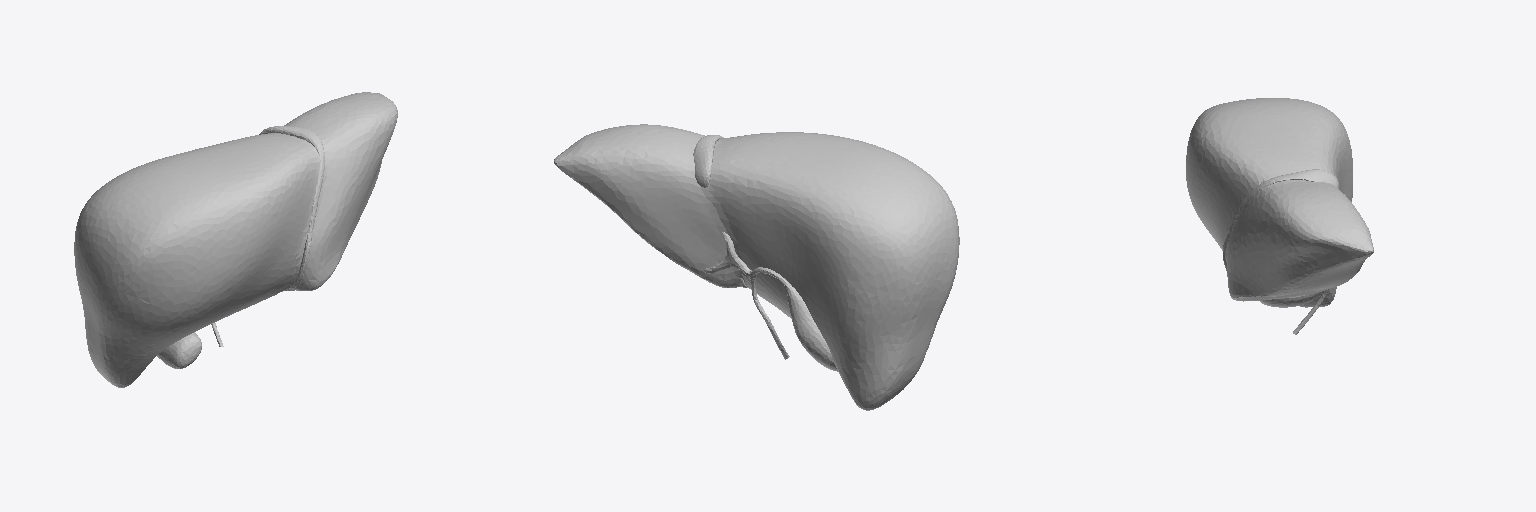
File: liver_easy.obj
3 views of the same model, side by side, from view 1: azimuth 30°, elevation 25°; view 2: azimuth 150°, elevation 25°; view 3: azimuth 270°, elevation 25° (orthographic).
Parts seen in each view (by area): view 1: mmGroup0; view 2: mmGroup0; view 3: mmGroup0.
Part boxes in pixels (bbox=[...]): mmGroup0: bbox=[74, 92, 397, 387]; mmGroup0: bbox=[554, 124, 959, 410]; mmGroup0: bbox=[1186, 98, 1373, 334].
Size of the model in its own units: 0.1925 by 0.1183 by 0.0922.